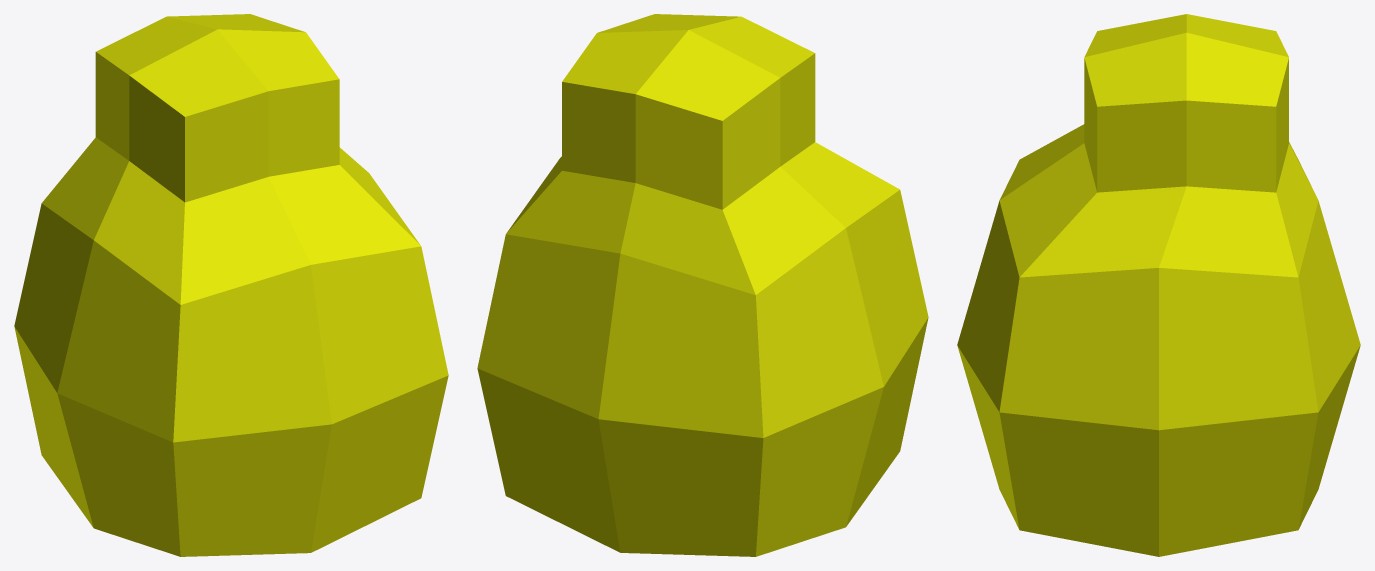
File: models2.glb
3 views of the same model, side by side, from view 1: azimuth 30°, elevation 25°; view 2: azimuth 150°, elevation 25°; view 3: azimuth 270°, elevation 25° (orthographic). The views are drawn at different scales.
Visible parts, largest first — view 1: Cube; view 2: Cube; view 3: Cube.
Part boxes in pixels (<box>): Cube: <box>14,14,448,556</box>; Cube: <box>477,14,928,556</box>; Cube: <box>957,14,1360,556</box>.
Size of the model in its own units: 1.62 by 2.19 by 1.62.
